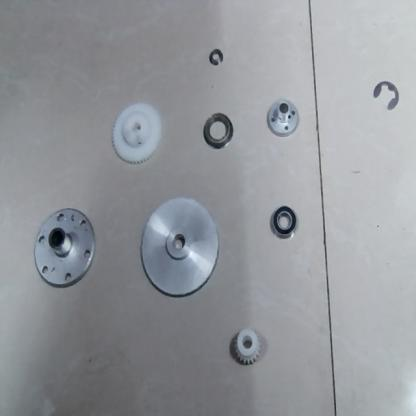FOD: (138, 196, 223, 301), (29, 204, 100, 289), (110, 98, 160, 164), (202, 111, 239, 152), (231, 323, 265, 364), (266, 199, 300, 239), (265, 99, 301, 136), (367, 77, 403, 112), (208, 42, 226, 66)
